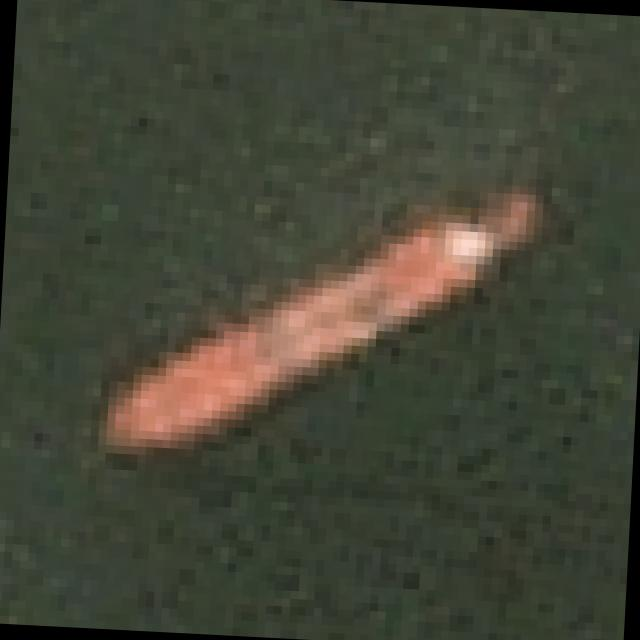ship: (74, 137, 550, 546)
